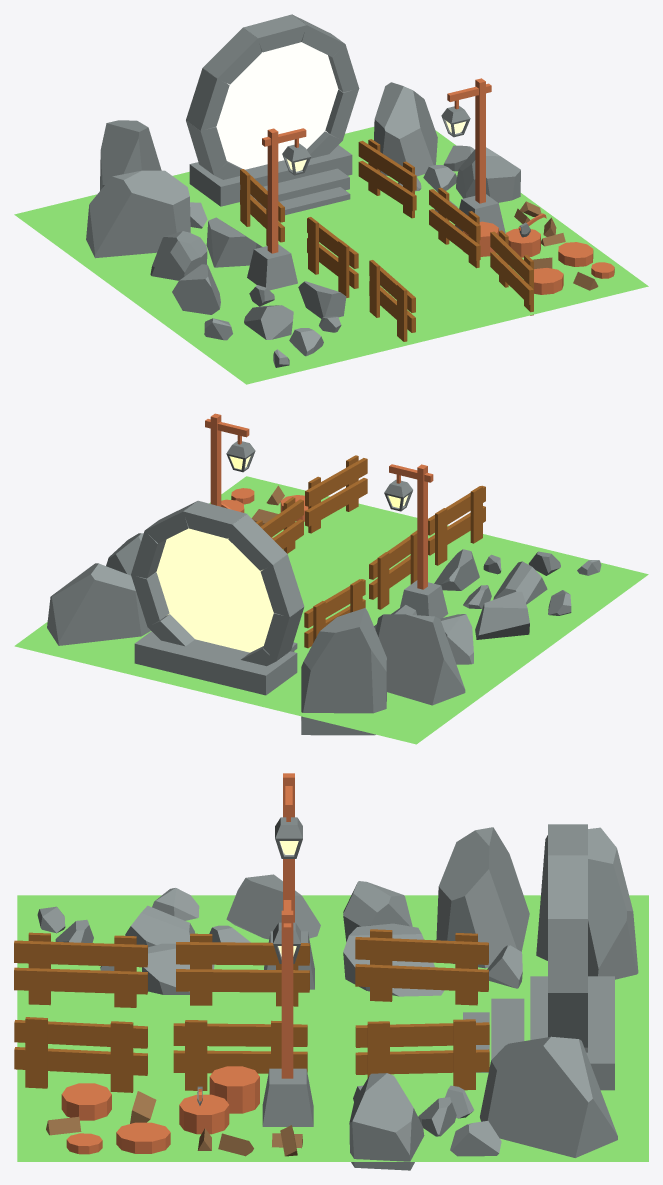
The model's file is Portal.glb.
3 views of the same model, one above another, from view 1: azimuth 30°, elevation 25°; view 2: azimuth 150°, elevation 25°; view 3: azimuth 270°, elevation 25° (orthographic). The views are drawn at different scales.
Visible parts, largest first — view 1: Plane, portalLight, Cube.032, Cube.017, Cube.022, Cube.031, Cube.036, Cube.004, Cube.003, Cube, Cube.023, Cube.001 (+20 smaller); view 2: Plane, Cube.032, portalLight, Cube.036, Cube.022, Cube.017, Cube.031, Cube.005, Cube.001, Cube, Cube.016, Cube.002 (+12 smaller); view 3: Plane, Cube.022, Cube.032, Cube.017, Cube.001, Cube.002, Cube.005, Cube.004, Cube.036, Cube, Cube.003, Cube.023 (+24 smaller).
Part boxes in pixels (<box>): Plane: <box>14,127,648,384</box>; portalLight: <box>216,42,338,169</box>; Cube.032: <box>186,14,359,179</box>; Cube.017: <box>86,170,190,258</box>; Cube.022: <box>374,82,437,176</box>; Cube.031: <box>189,145,352,206</box>; Cube.036: <box>100,120,161,190</box>; Cube.004: <box>358,139,416,218</box>; Cube.003: <box>429,187,480,268</box>; Cube: <box>307,217,358,297</box>; Cube.023: <box>456,147,520,202</box>; Cube.001: <box>369,260,415,341</box>; Plane: <box>14,476,648,744</box>; Cube.032: <box>131,500,304,666</box>; portalLight: <box>156,528,273,652</box>; Cube.036: <box>301,608,386,735</box>; Cube.022: <box>47,563,150,645</box>; Cube.017: <box>375,614,465,705</box>; Cube.031: <box>134,631,297,695</box>; Cube.005: <box>305,455,367,533</box>; Cube.001: <box>428,485,485,565</box>; Cube: <box>369,530,417,609</box>; Cube.016: <box>475,591,529,639</box>; Cube.002: <box>304,579,365,648</box>; Plane: <box>17,895,648,1161</box>; Cube.022: <box>480,1036,617,1157</box>; Cube.032: <box>548,824,587,1052</box>; Cube.017: <box>436,827,529,968</box>; Cube.001: <box>14,932,147,1007</box>; Cube.002: <box>355,929,488,1005</box>; Cube.005: <box>14,1017,147,1092</box>; Cube.004: <box>355,1019,489,1090</box>; Cube.036: <box>536,827,638,979</box>; Cube: <box>176,933,309,1006</box>; Cube.003: <box>173,1020,307,1090</box>; Cube.023: <box>349,1073,424,1170</box>.
Bounding box in the file's own units: 3.95 × 1.66 × 3.98.
